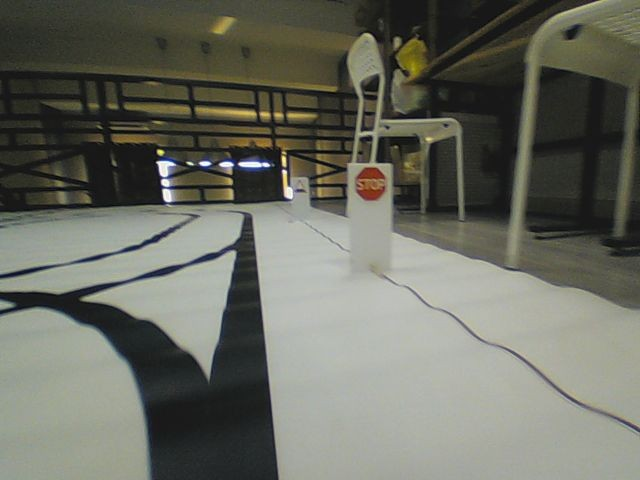Stop: (354, 166, 387, 202)
